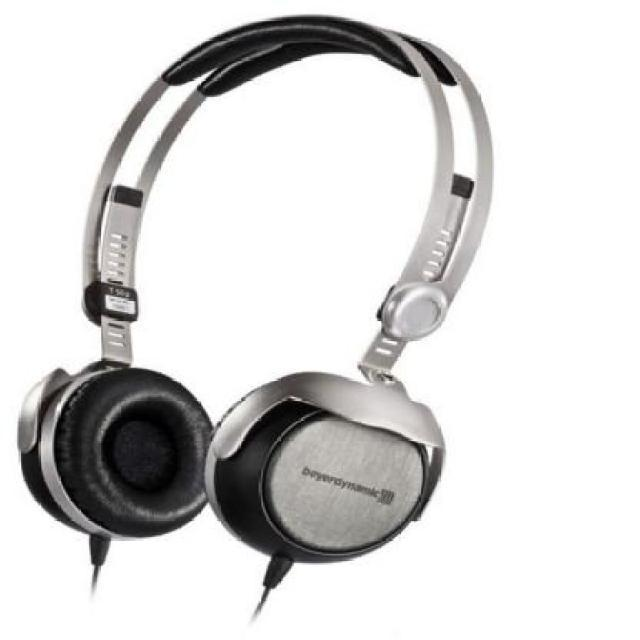earphone: (18, 3, 535, 600)
